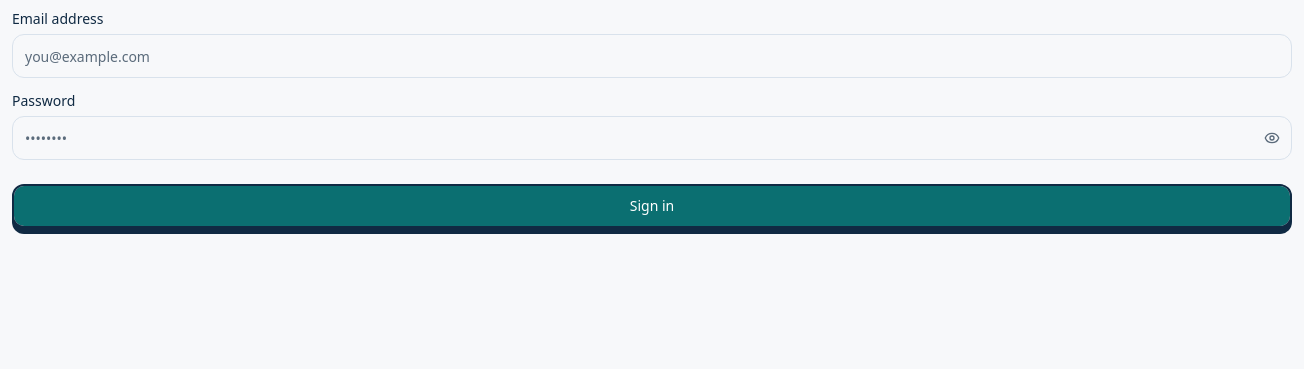
Scenario: LoginForm › shows the suspension reason and support link when login returns ACCOUNT_SUSPENDED
The image size is (1304, 369).
Type "ahmed@example.com" into the field labelled "Email address".
click(652, 56); type("ahmed@example.com")  # box [12, 34, 1292, 78]
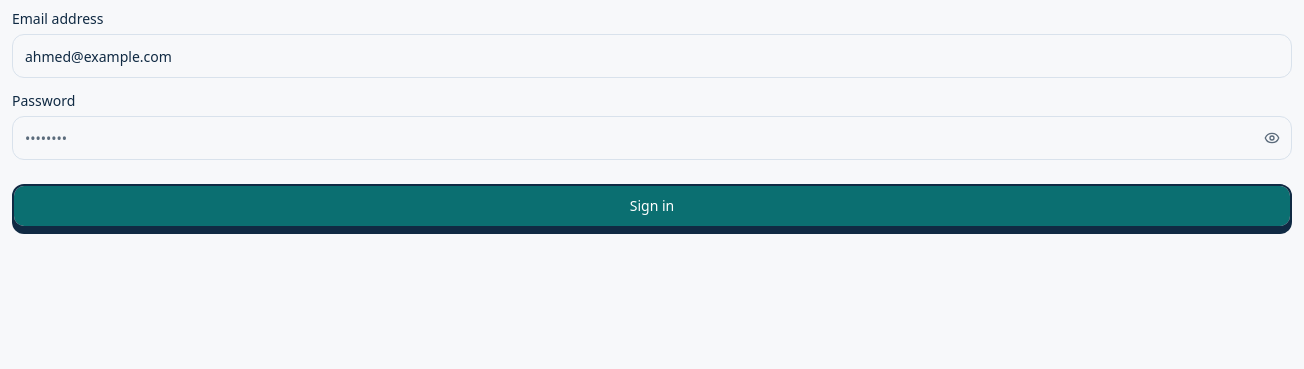
Type "password123" into the password field labelled "Password".
click(652, 138); type("password123")  # box [12, 116, 1292, 160]
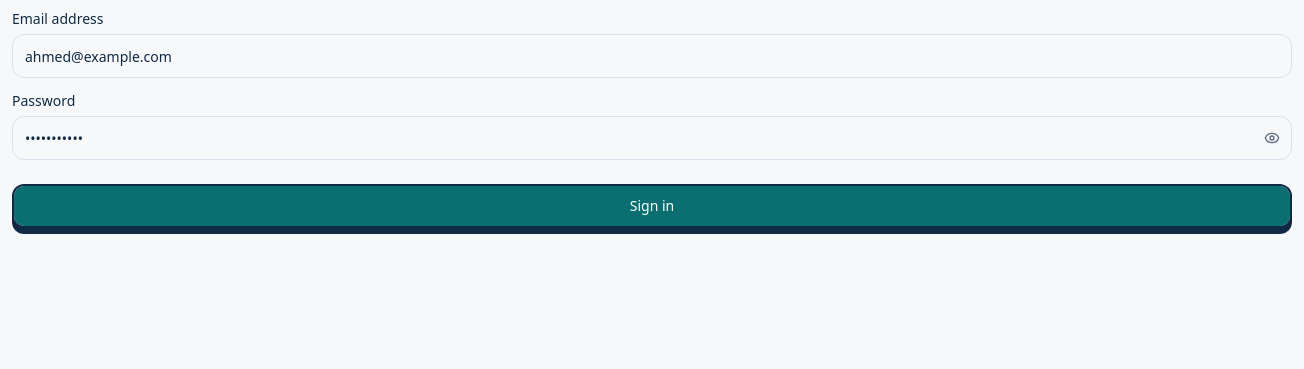
Click the button "Sign in".
click(652, 206)  # box [12, 184, 1292, 228]
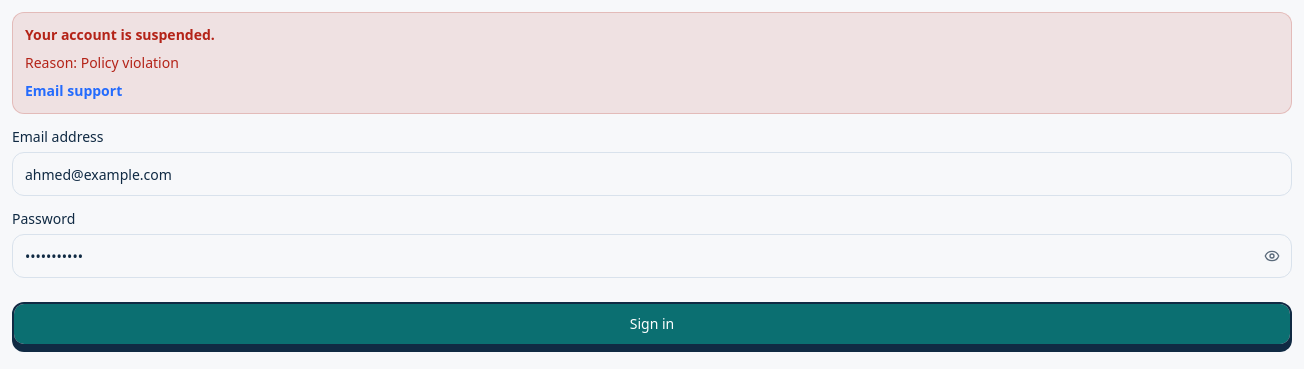
Expected: the text "Your account is suspended." is shown, [25, 25, 215, 44]
Expected: the text "Reason: Policy violation" is shown, [25, 53, 179, 72]
